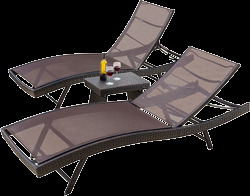chairs: (1, 45, 247, 187), (8, 1, 186, 118)
